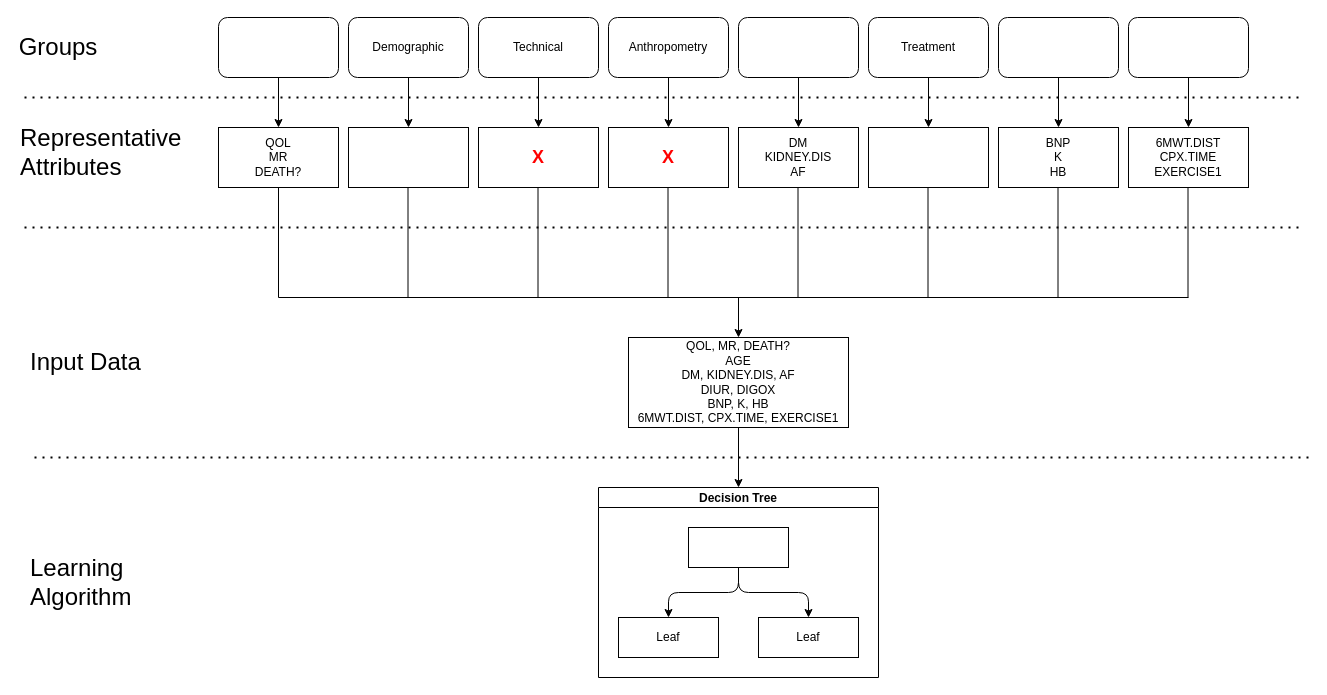
The diagram is 1327 pixels wide and 695 high, and some of its shapes have lost their labels. The centre of each missing label's shape, as x and y in pixels:
AGE: (x=408, y=157)
Biochemistry: (x=1058, y=47)
Clinical: (x=278, y=47)
Comorbidities: (x=798, y=47)
DIUR DIGOX: (x=928, y=157)
Fitness Level: (x=1188, y=47)
Root: (x=738, y=547)
